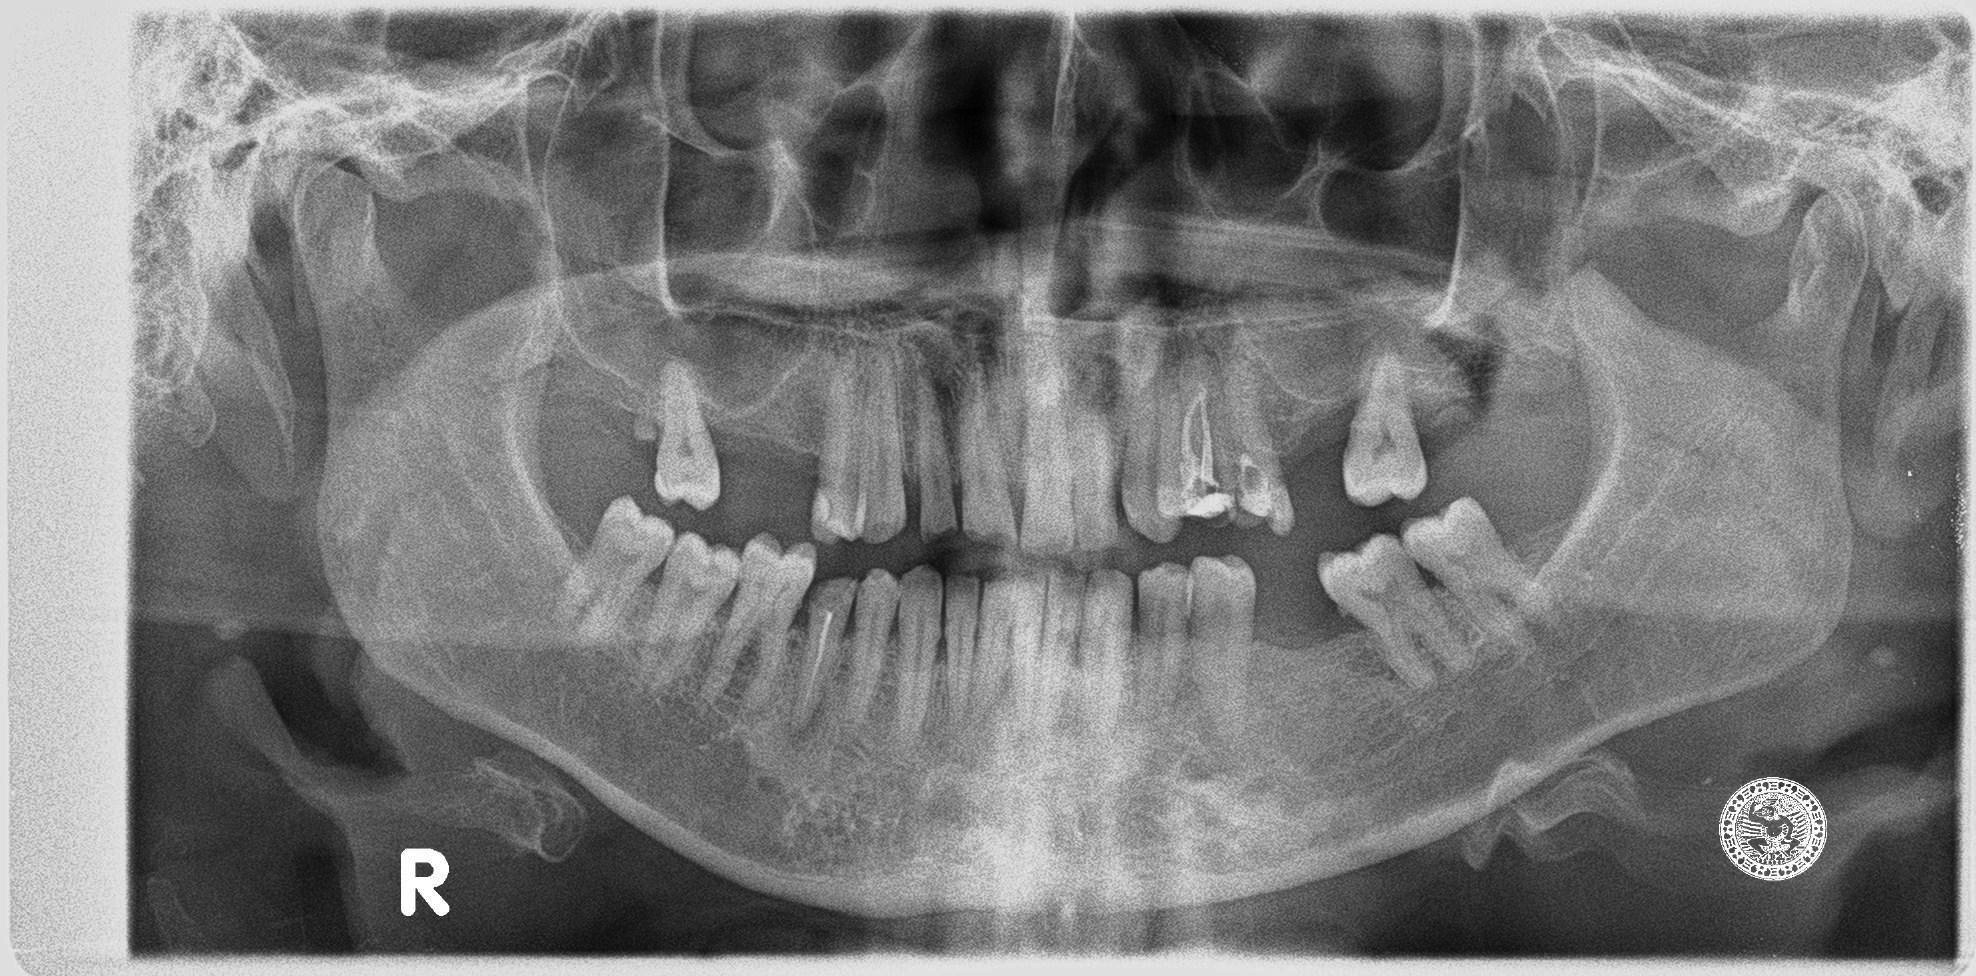Individual Tooth: (1399, 499, 1568, 658), (1316, 536, 1477, 695), (694, 533, 818, 716), (552, 497, 675, 651), (636, 533, 741, 685), (1215, 354, 1295, 540), (1340, 339, 1425, 508), (1159, 353, 1241, 527), (1122, 348, 1182, 542), (1190, 556, 1254, 734), (1020, 335, 1072, 550), (955, 369, 1018, 547), (851, 348, 905, 543), (812, 351, 866, 540), (793, 581, 858, 731), (654, 359, 720, 508), (1135, 562, 1193, 711), (912, 348, 956, 541), (1084, 570, 1133, 743), (847, 569, 899, 731), (899, 566, 941, 744), (1067, 409, 1120, 547), (1038, 569, 1083, 728), (968, 578, 1014, 726), (1012, 570, 1050, 730), (945, 575, 980, 731)
